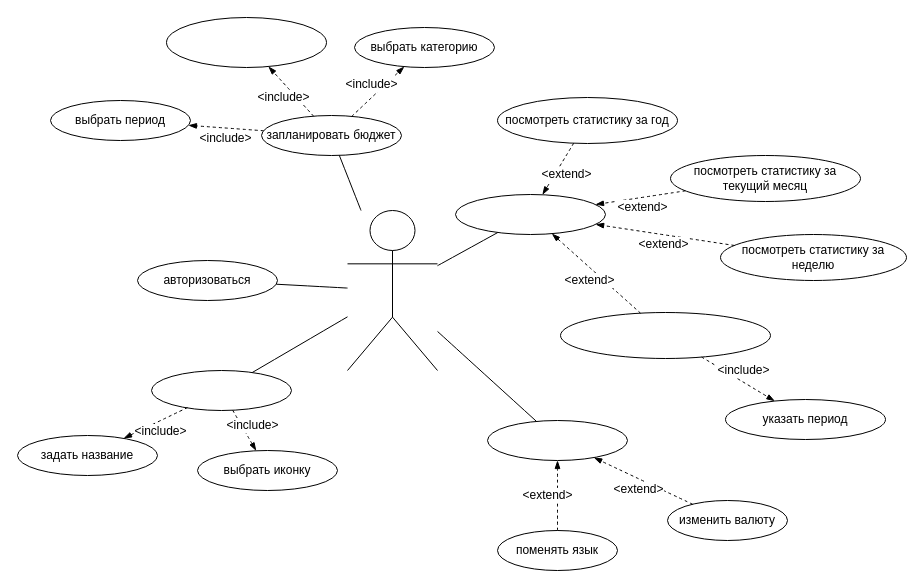
Some shapes in this 924 by 588 pixel diagram are drawn without their labels. The shapes that lost their labels are listed below. From the top down, each one's centre as x and y in pixels, then its label:
At pixel 246 42: "указать планируемую сумму".
At pixel 530 214: "посмотреть статистику".
At pixel 392 290: "Пользователь".
At pixel 665 335: "посмотреть статистику за выбранный период".
At pixel 221 390: "создать категорию трат".
At pixel 557 440: "изменить настройки".
